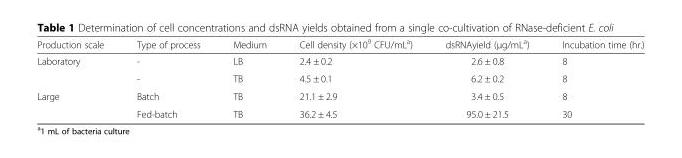table: (36, 36, 643, 119)
table column: (282, 36, 428, 119), (428, 36, 544, 119), (544, 36, 643, 119), (119, 36, 216, 119), (36, 36, 119, 119), (216, 36, 282, 119)
table column header: (36, 36, 643, 52)
table row: (36, 69, 643, 87), (36, 52, 643, 69), (36, 87, 643, 104), (36, 36, 643, 52), (36, 104, 643, 119)
table spanning cell: (36, 52, 119, 87), (36, 87, 119, 119)
